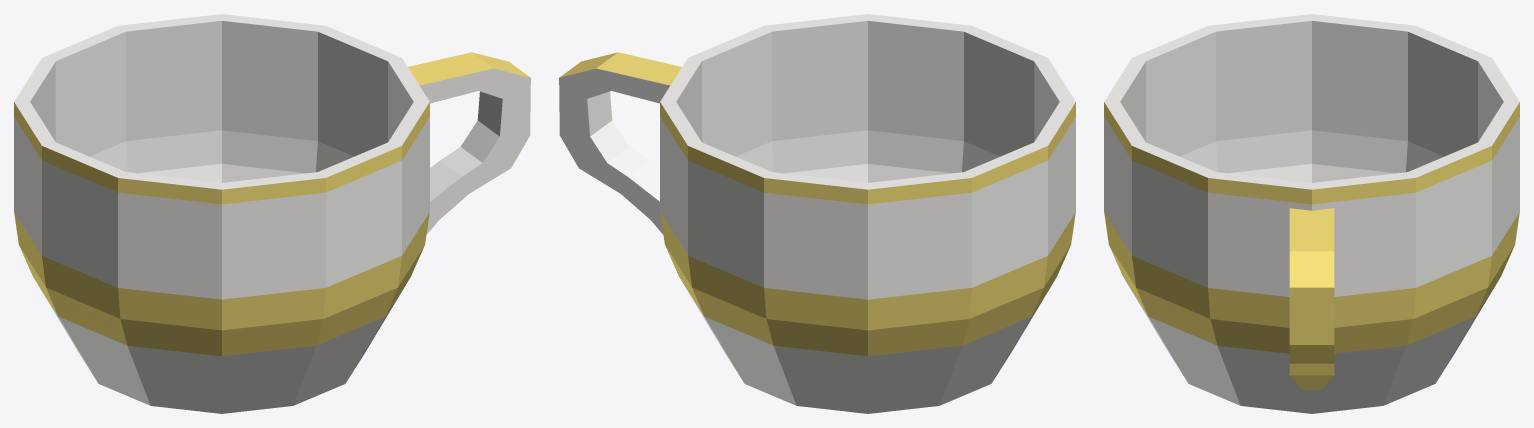
Rendered from Cup_1.fbx.
The picture shows the model from 3 angles, left to right: view 1: azimuth 30°, elevation 25°; view 2: azimuth 150°, elevation 25°; view 3: azimuth 270°, elevation 25°; orthographic projection.
Visible parts, largest first — view 1: Cup_1; view 2: Cup_1; view 3: Cup_1.
Part boxes in pixels (box(x1,y1,x2,y2)): Cup_1: box(14, 14, 530, 413); Cup_1: box(559, 14, 1075, 413); Cup_1: box(1104, 14, 1519, 413).
Size of the model in its own units: 6.87 by 5.18 by 3.46.
